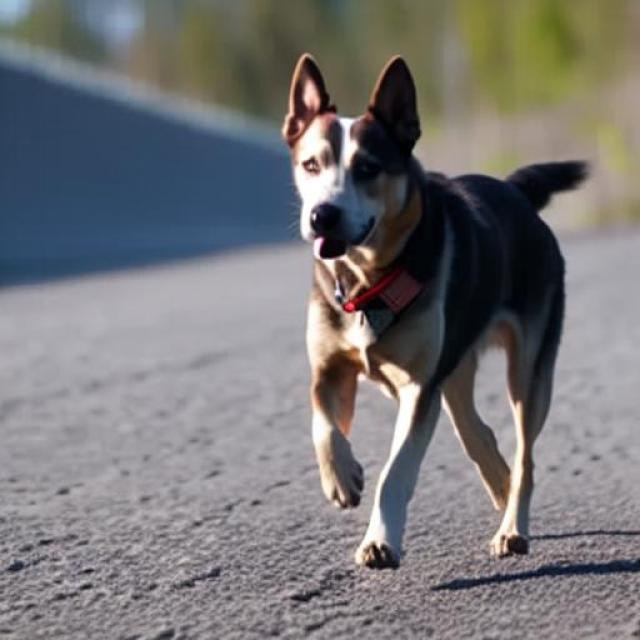Dog: (282, 51, 588, 569)
